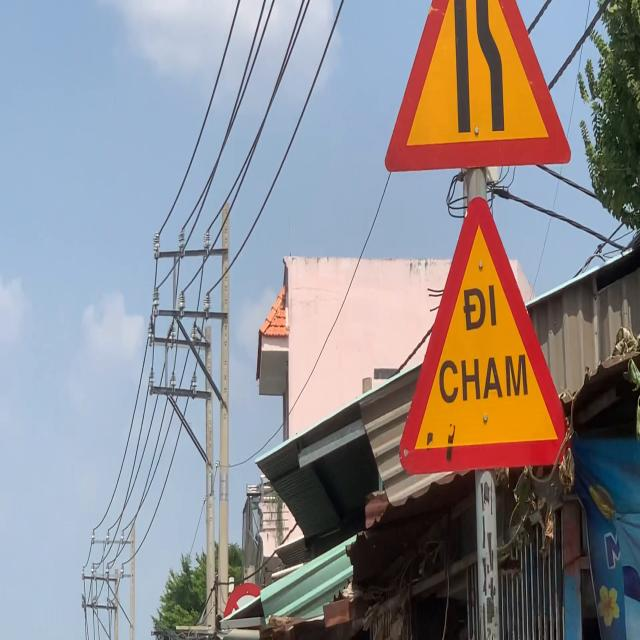Nguy hiem: (388, 187, 580, 493), (381, 0, 573, 175)
